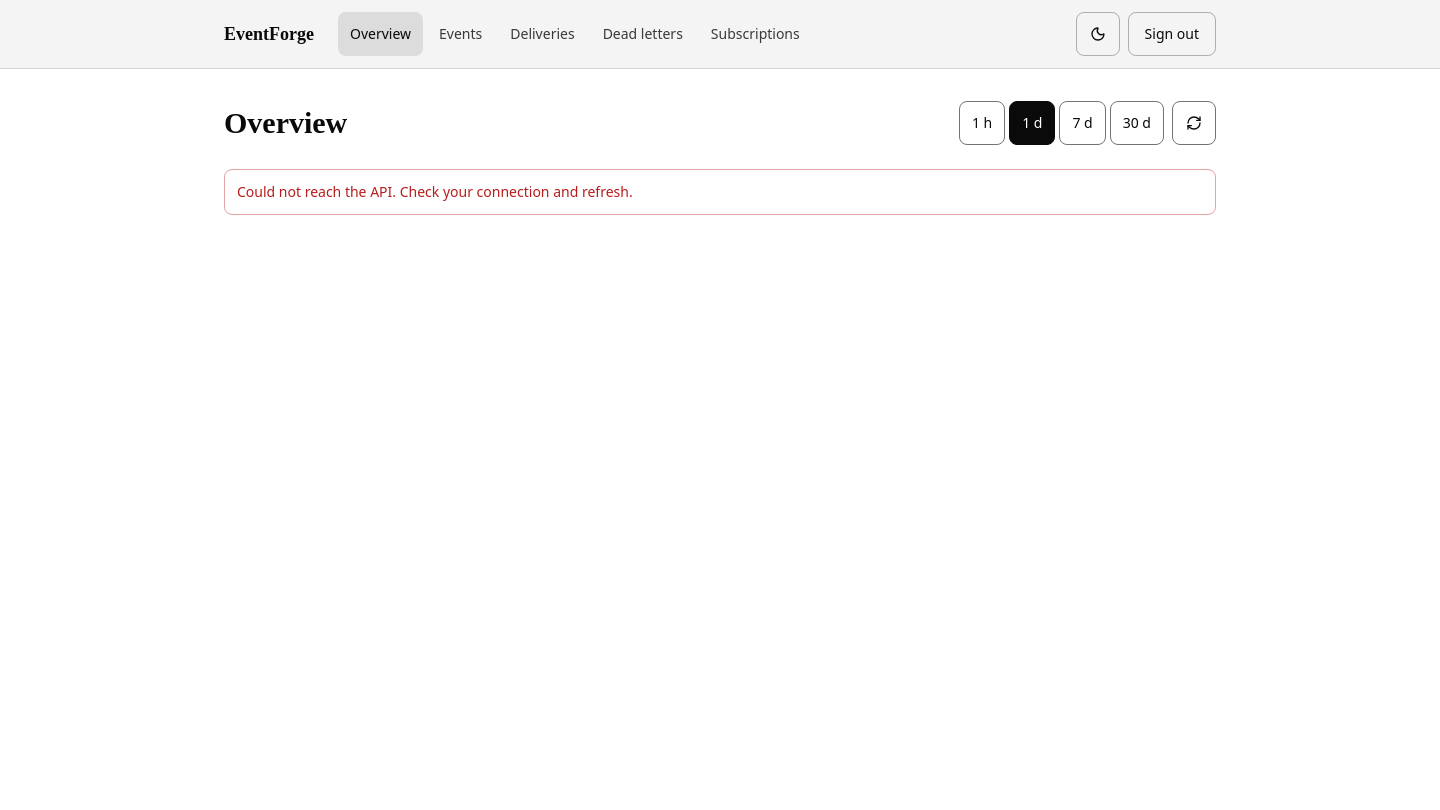
Test case: Overview › shows an error when the API is unreachable, and recovers on refresh
Expected: the message shows "Could not reach the API", top-left (237, 182), bottom-right (633, 201)
Click the button named "Refresh": coordinates (1194, 123) top-left (1172, 101), bottom-right (1216, 145)
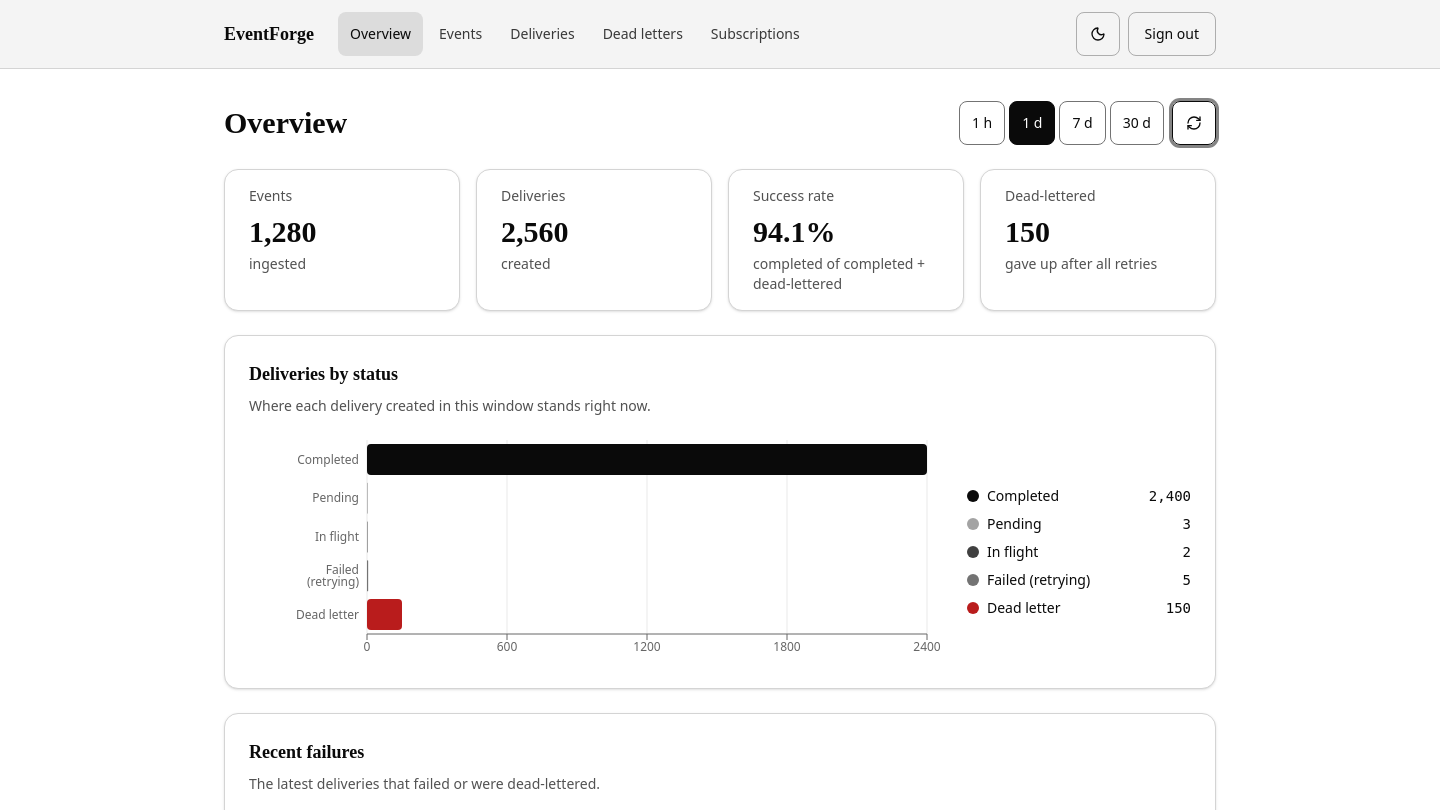
Expected: the text "1,280" is shown, top-left (249, 215), bottom-right (316, 248)
Expected: the message "Could not reach the API. Check your connection and refresh." is gone
